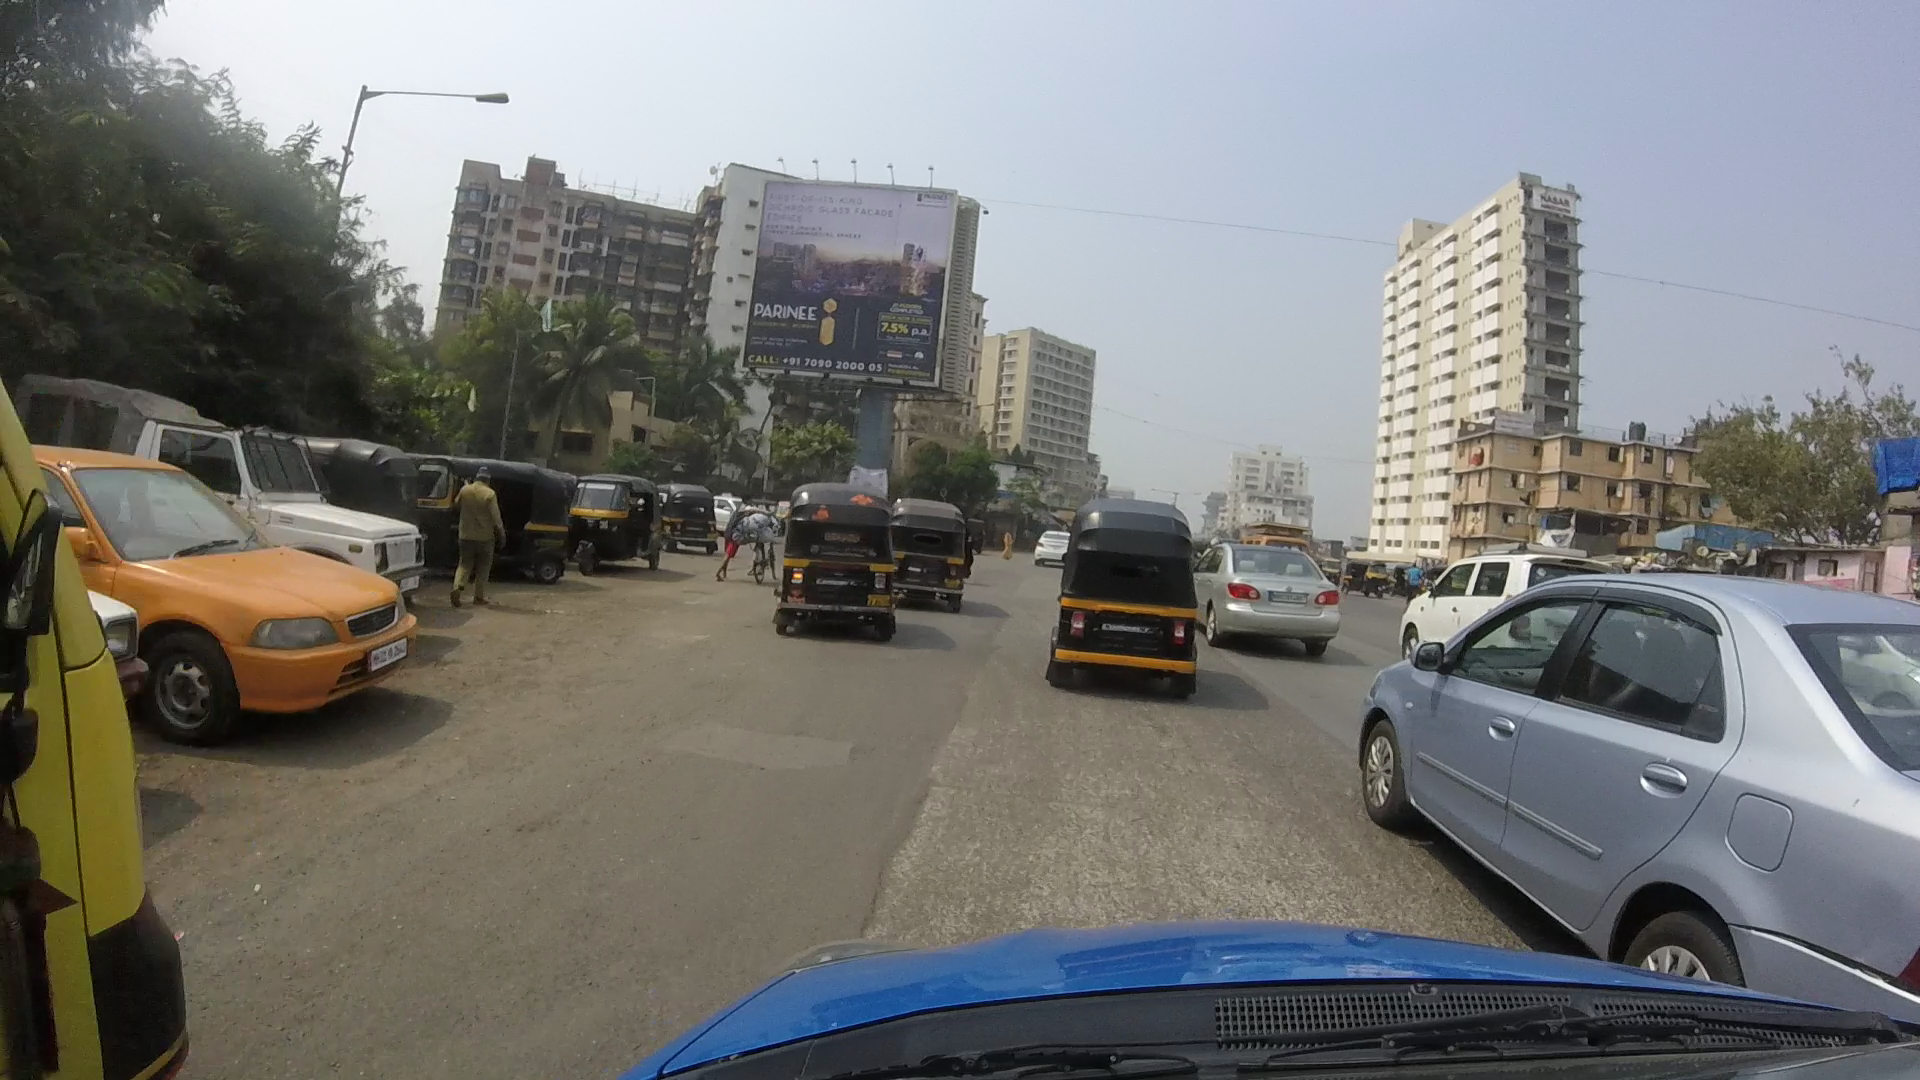car: (1349, 563, 1920, 1005), (40, 442, 411, 724), (1408, 542, 1569, 659), (1184, 539, 1349, 651)
rickshaw: (1036, 501, 1205, 688), (781, 480, 905, 626), (568, 472, 663, 572), (902, 501, 986, 607)
